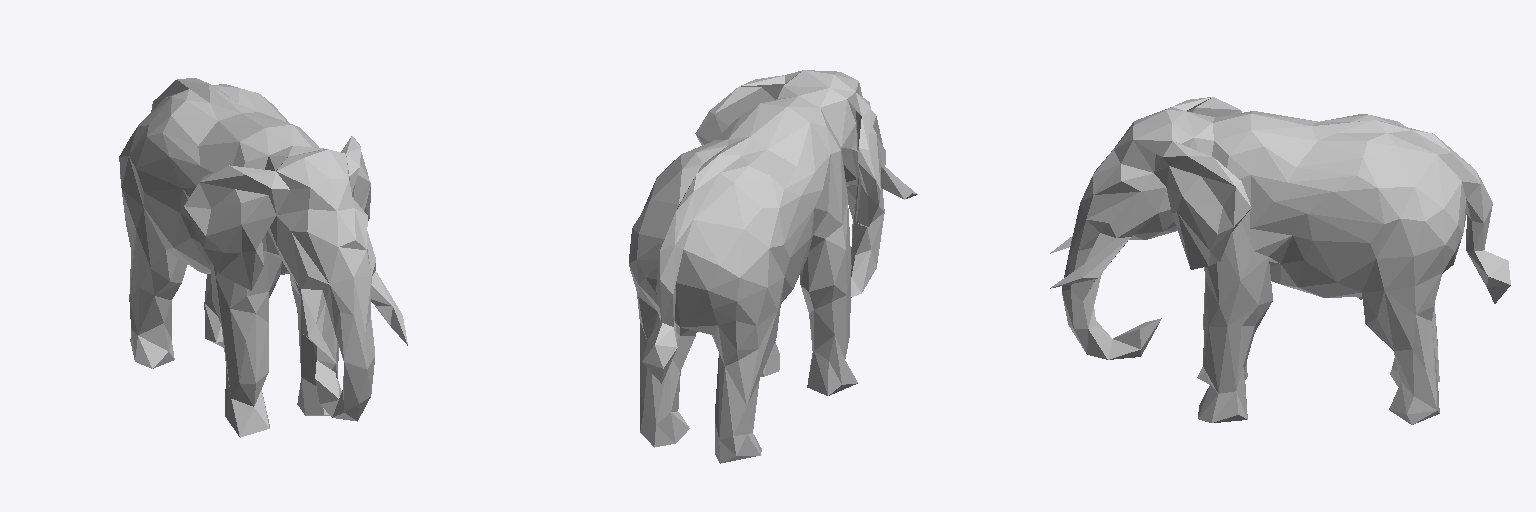
File: _lephant.obj
The picture shows the model from 3 angles: view 1: azimuth 30°, elevation 25°; view 2: azimuth 150°, elevation 25°; view 3: azimuth 270°, elevation 25°; orthographic projection.
Visible parts, largest first — view 1: ELEPHANT; view 2: ELEPHANT; view 3: ELEPHANT.
Part boxes in pixels (x1,y1,x2,y2): ELEPHANT: (119,78,407,437); ELEPHANT: (629,70,917,463); ELEPHANT: (1050,97,1510,424).
Bounding box in the file's own units: 31.67 × 47.68 × 70.33.